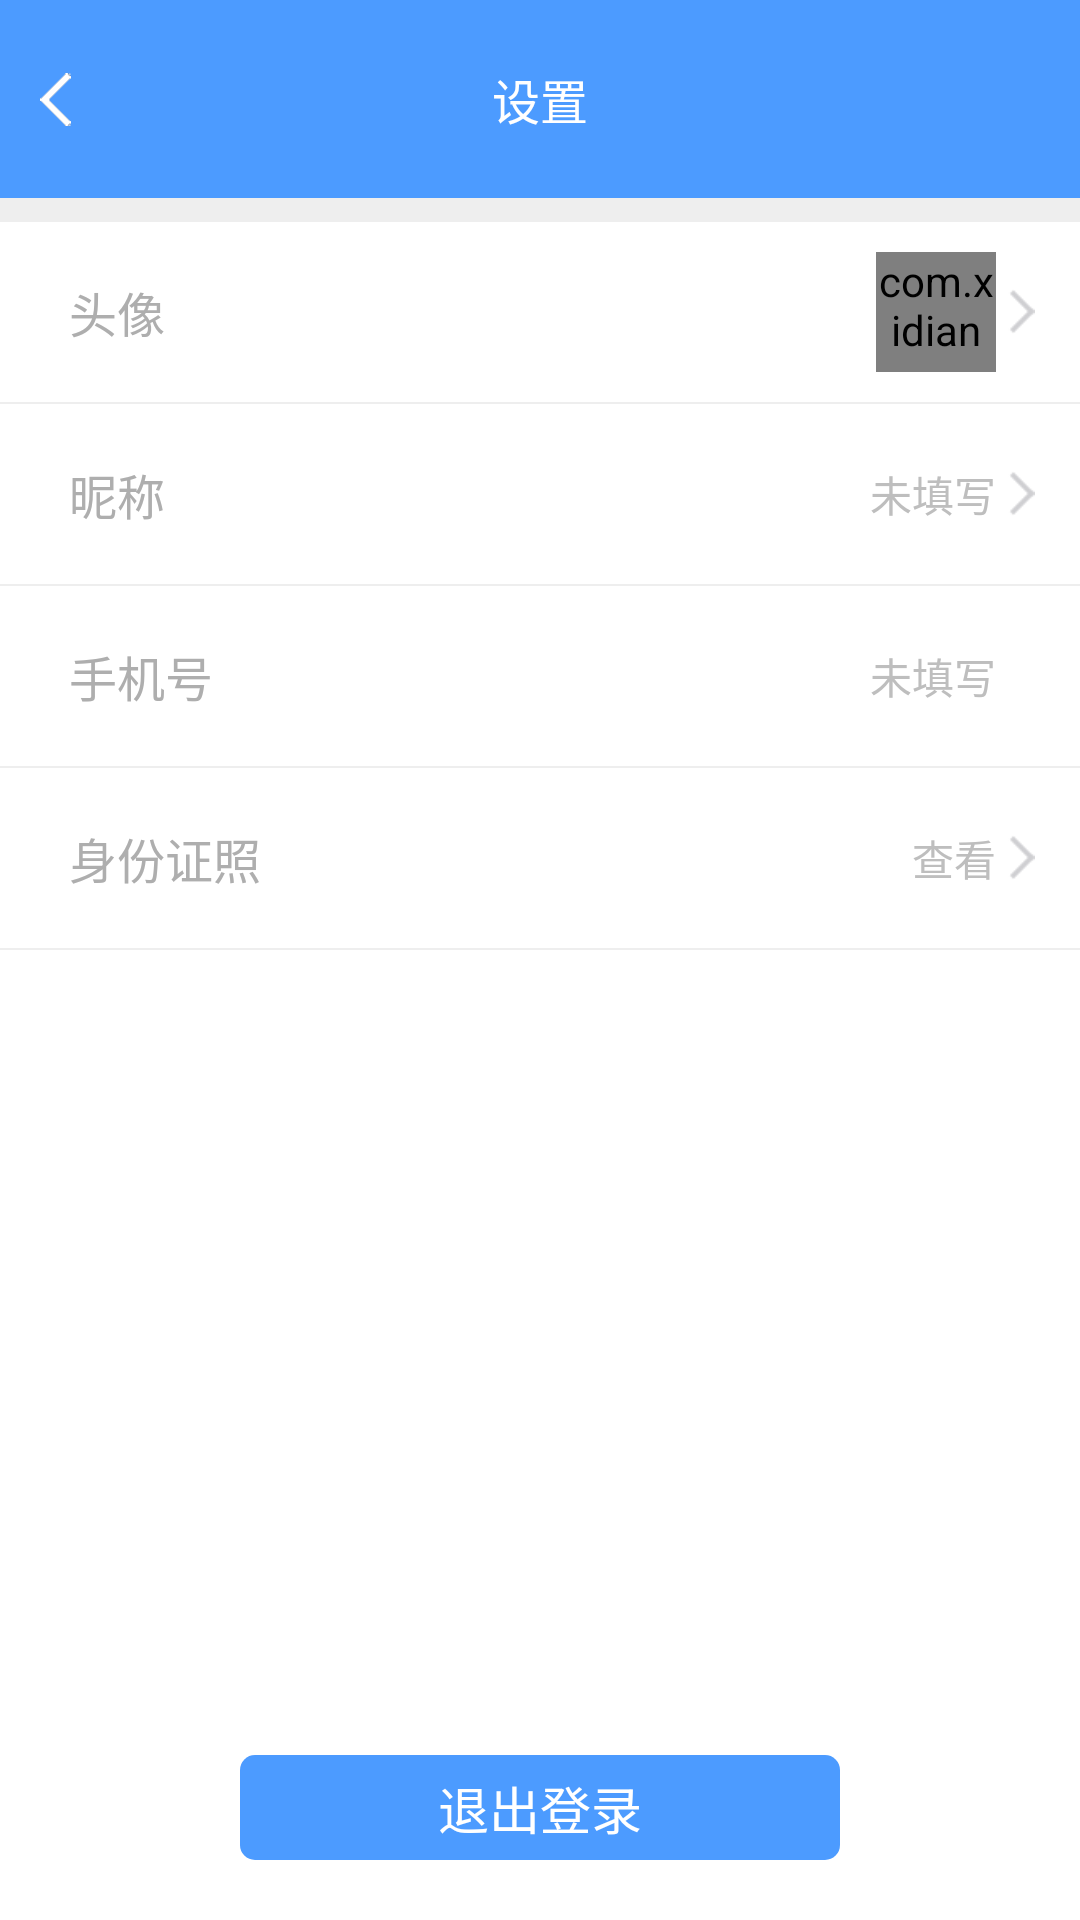

Locate icon controls on the screen. Image size 1080x1920, boxes as {"x1": x1, "y1": y1, "x2": x2, "y2": y2}.
login return: {"x1": 40, "y1": 73, "x2": 71, "y2": 126}
